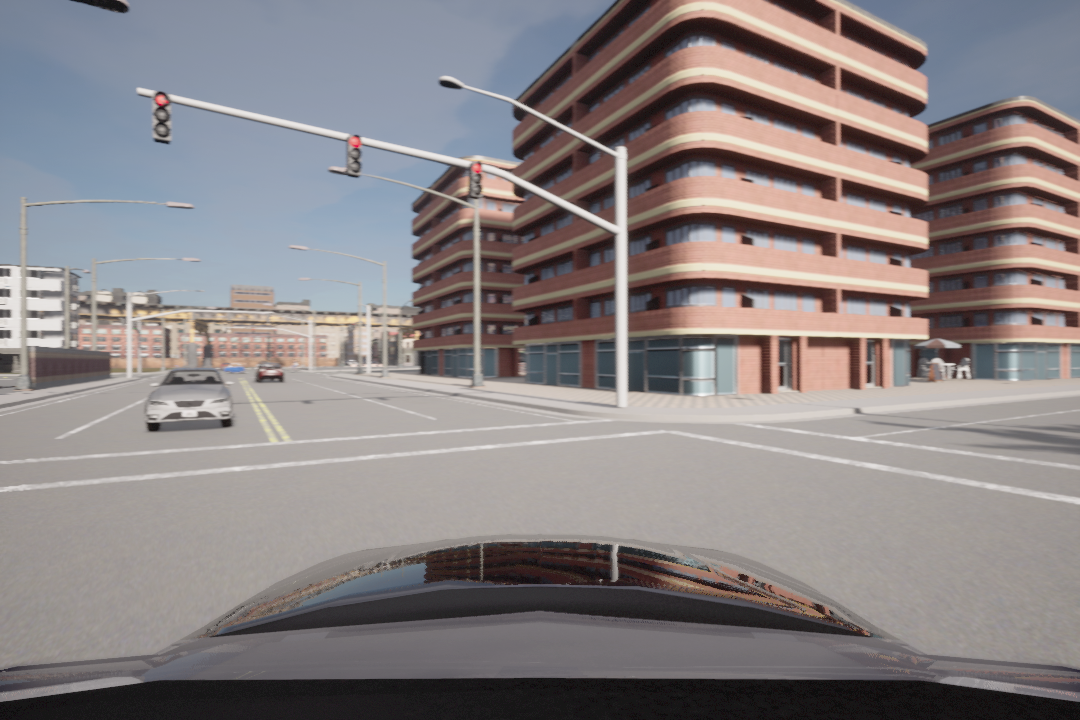TrafficLight: (148, 89, 174, 146), (347, 131, 363, 180), (467, 161, 483, 201)
